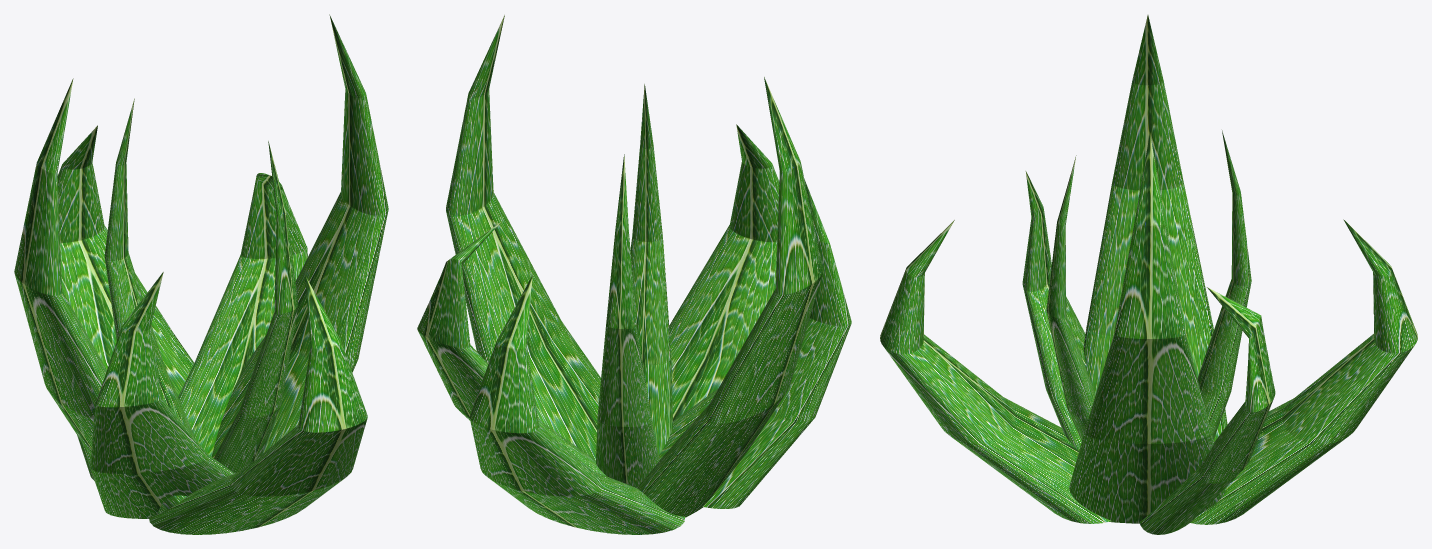
Rendered from plant.fbx.
3 renders of one model, left to right at view 1: azimuth 30°, elevation 25°; view 2: azimuth 150°, elevation 25°; view 3: azimuth 270°, elevation 25°, orthographic. The views are drawn at different scales.
Parts seen in each view (by area): view 1: Cone; view 2: Cone; view 3: Cone.
Boxes of the visible parts, box(x1,y1,x2,y2) form: Cone: box(14, 14, 388, 534); Cone: box(417, 15, 851, 534); Cone: box(880, 15, 1417, 534).
Size of the model in its own units: 158 by 187 by 219.
Materials: 1 (1 with a texture image).
